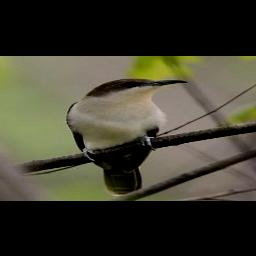Cuckoo: (65, 78, 189, 197)
